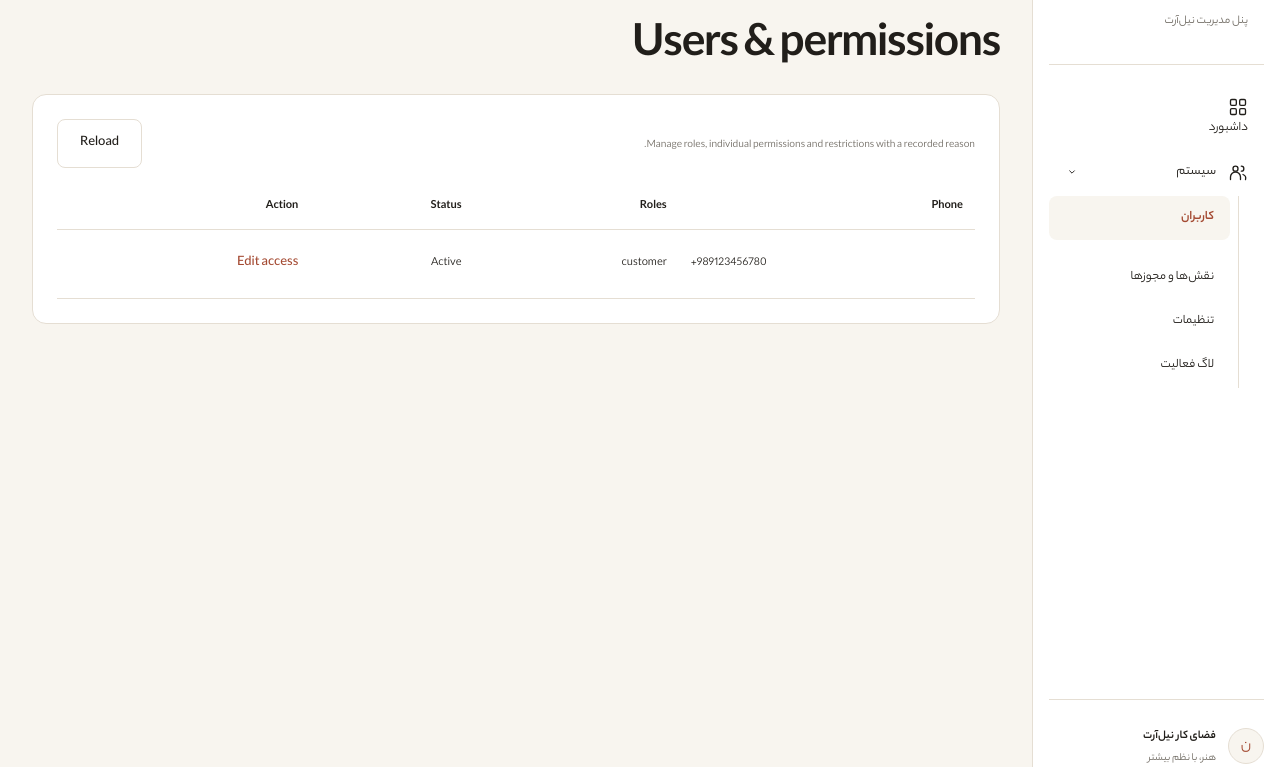
reference admin shell edits persisted roles and overrides without prototype data
Click the button "Edit access" at (268, 264), box [237, 242, 298, 286]
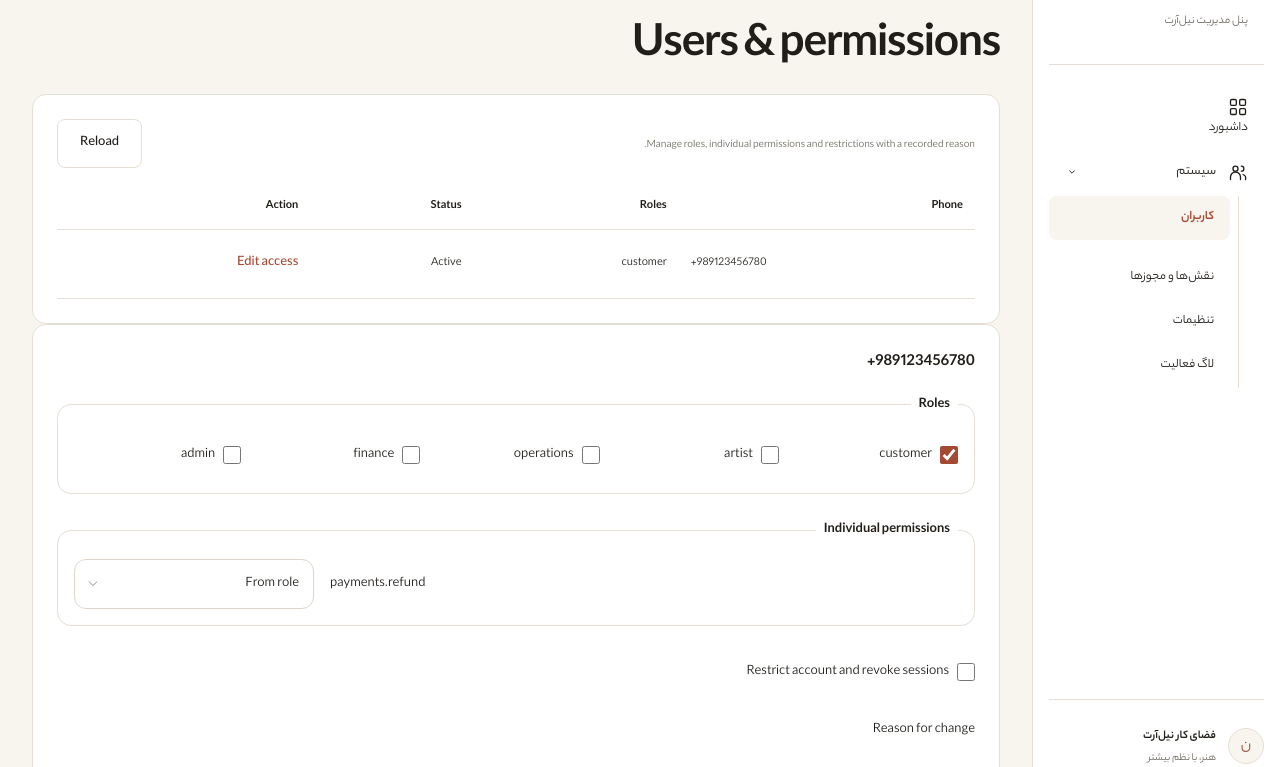
Click the checkbox labelled "finance" at (411, 455), box [402, 446, 420, 464]
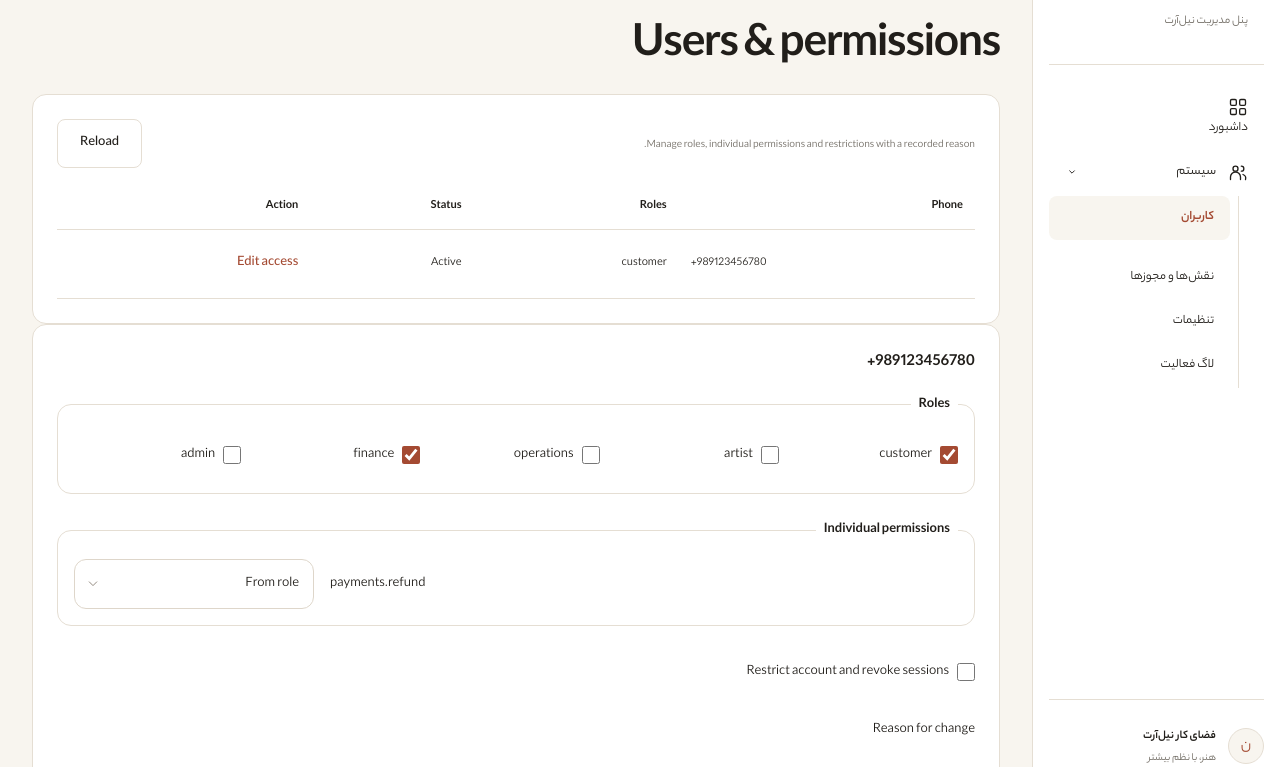
Click the dropdown labelled "payments.refund" at (212, 584), box [111, 560, 313, 608]
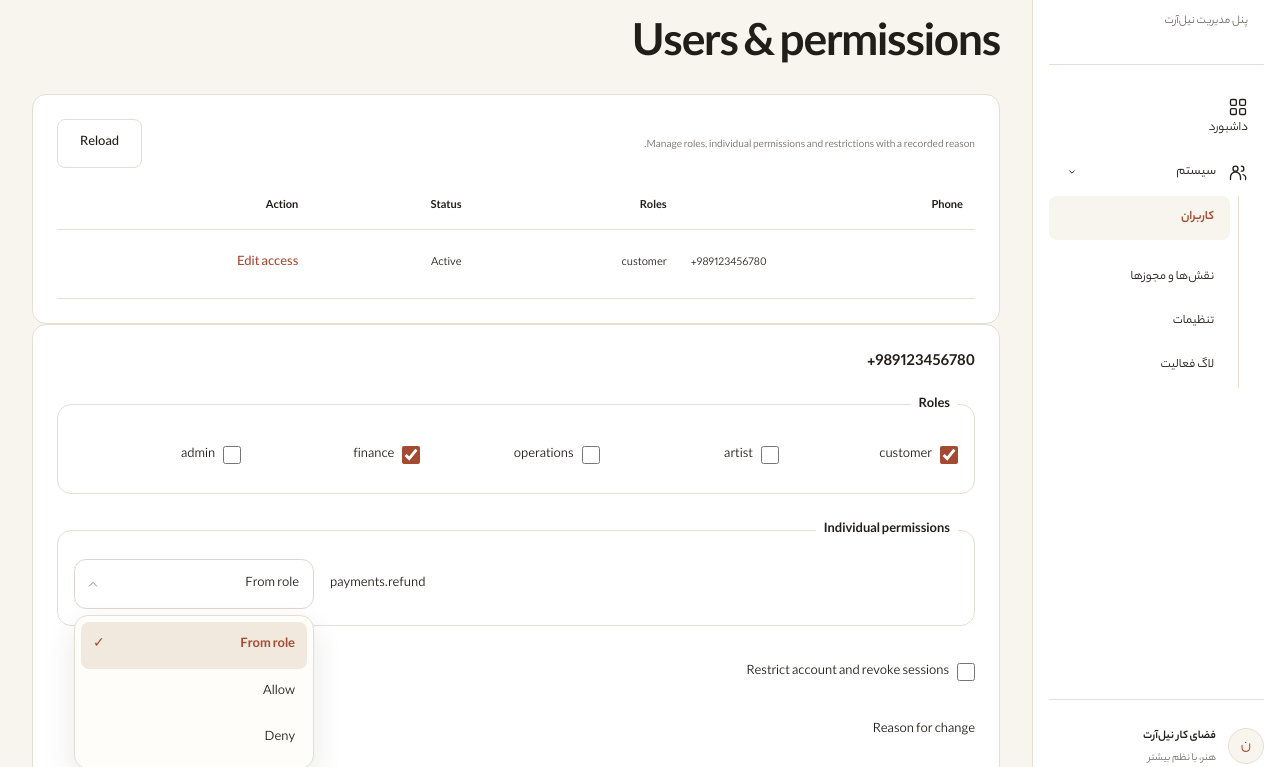
Click the option "Allow" at (279, 691), box [263, 680, 295, 702]
(page scrolled)
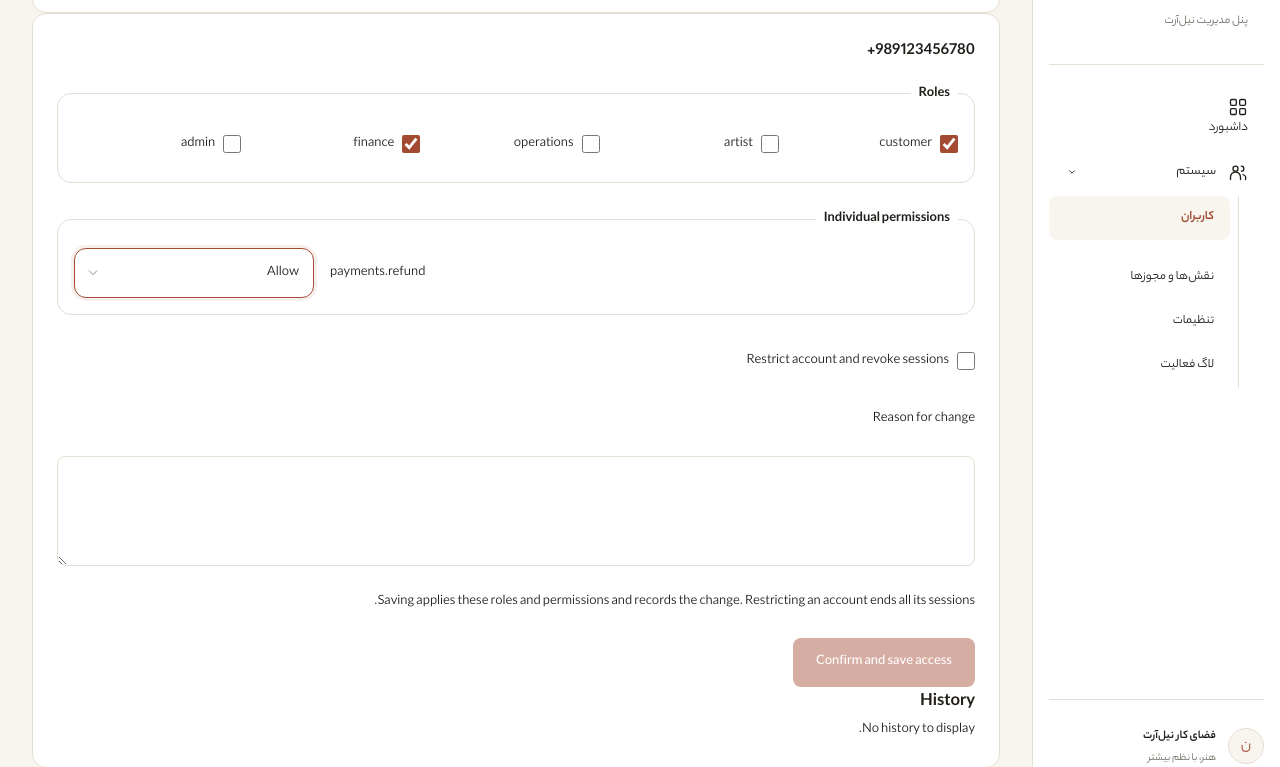
Type "Assign finance responsibility" into the text box labelled "Reason for change" at (516, 510), box [57, 456, 975, 566]
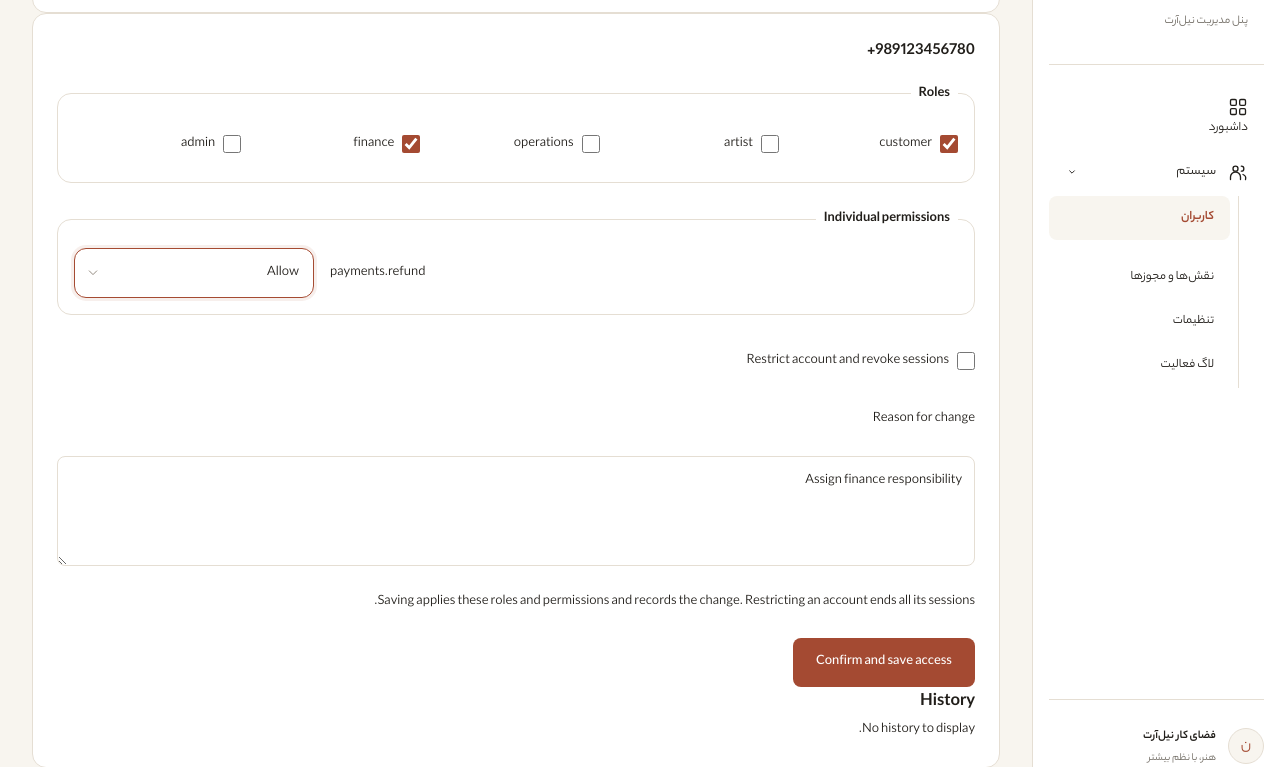
Click the button "Confirm and save access" at (884, 662), box [793, 638, 975, 686]
(page scrolled)
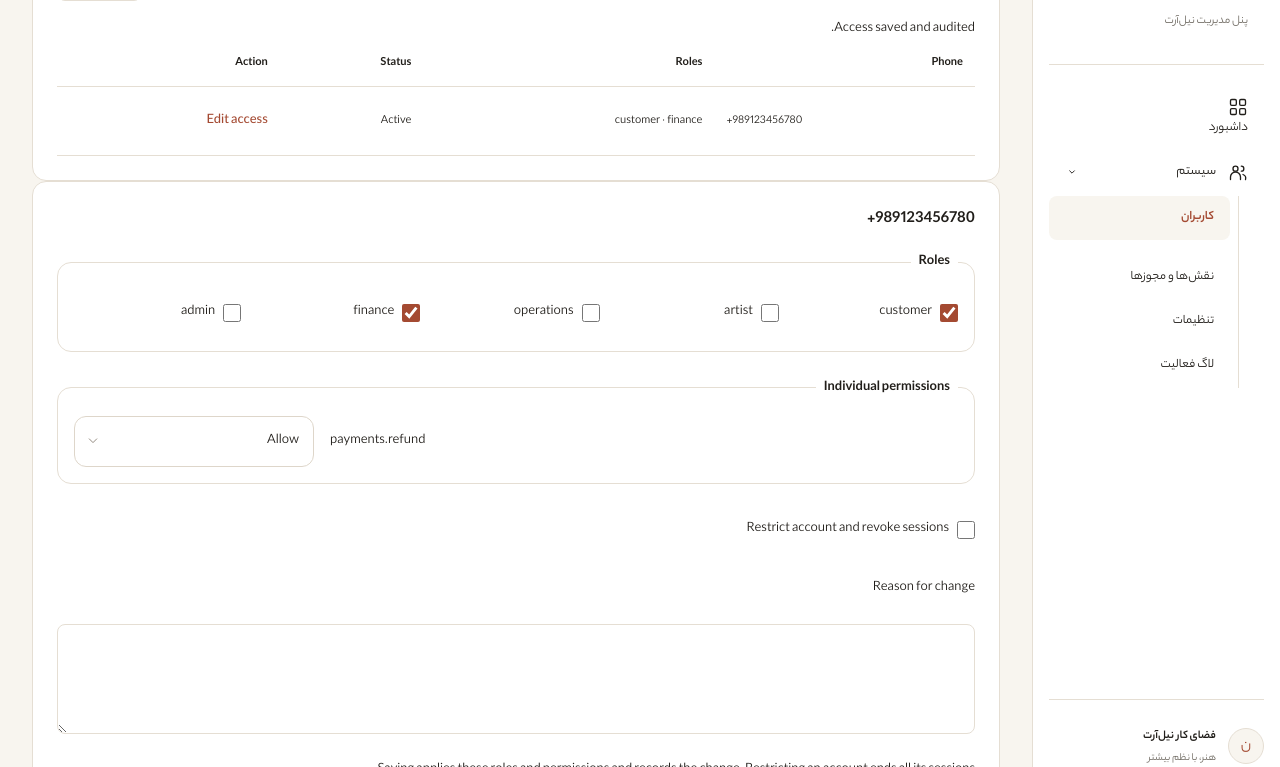
Expected: the text "Access saved and audited." is shown, [831, 18, 975, 38]
